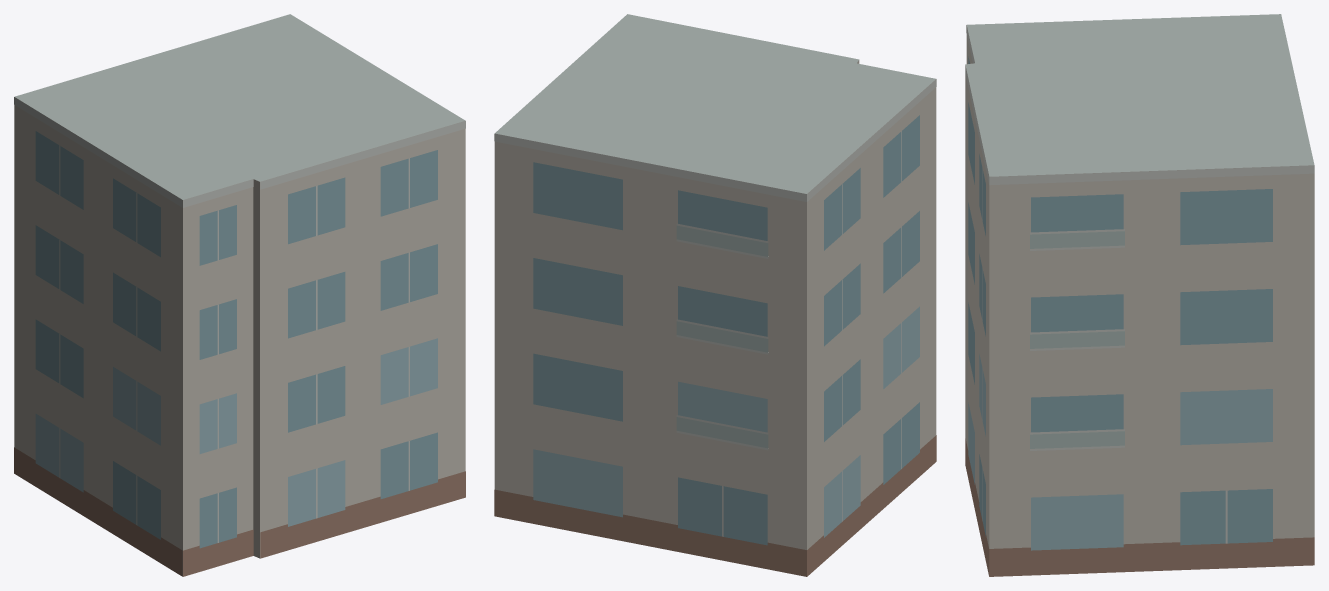
The model's file is survey-upis-32629586.glb.
The picture shows the model from 3 angles, left to right: view 1: azimuth 30°, elevation 25°; view 2: azimuth 150°, elevation 25°; view 3: azimuth 270°, elevation 25°; orthographic projection. The views are drawn at different scales.
Visible parts, largest first — view 1: survey-upis-32629586.tmp; view 2: survey-upis-32629586.tmp; view 3: survey-upis-32629586.tmp.
Part boxes in pixels (bbox=[...]): survey-upis-32629586.tmp: bbox=[14, 14, 465, 576]; survey-upis-32629586.tmp: bbox=[494, 14, 936, 576]; survey-upis-32629586.tmp: bbox=[965, 14, 1314, 576].
Size of the model in its own units: 10.13 by 11.6 by 9.19.
